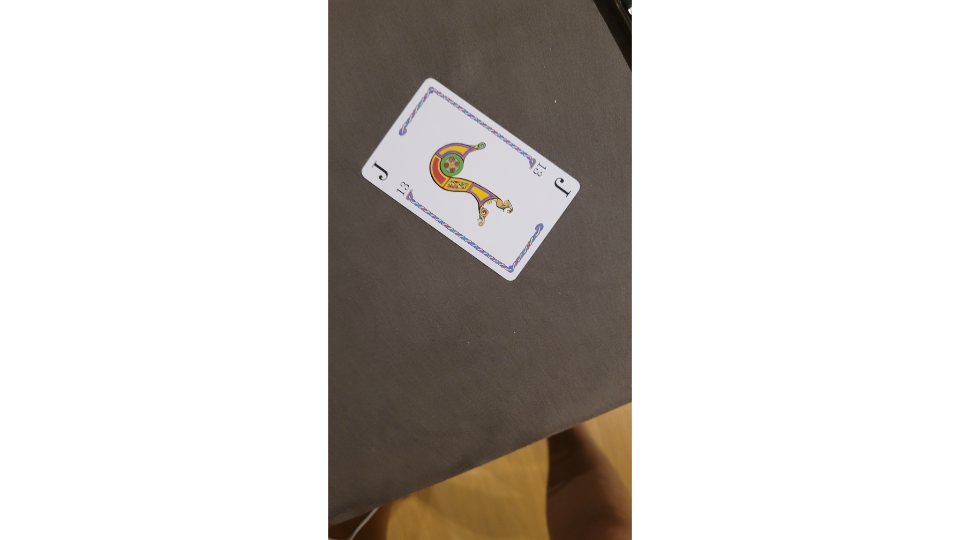J: (358, 75, 578, 281)
